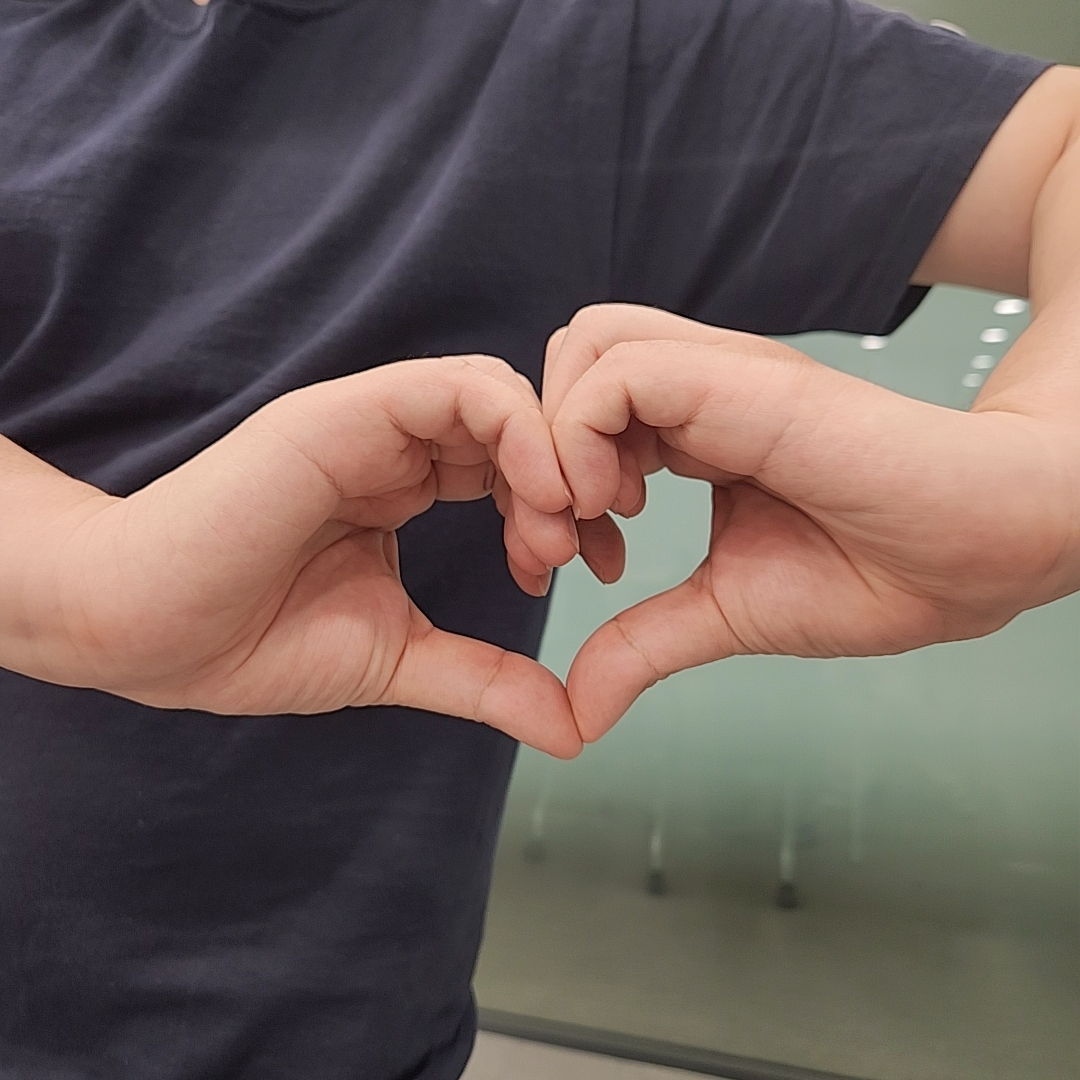heart: (134, 302, 987, 758)
